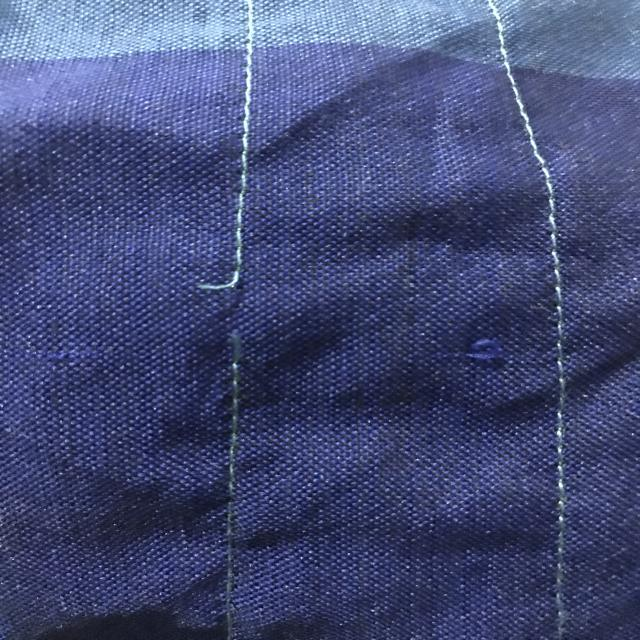broken: (167, 262, 303, 382)
